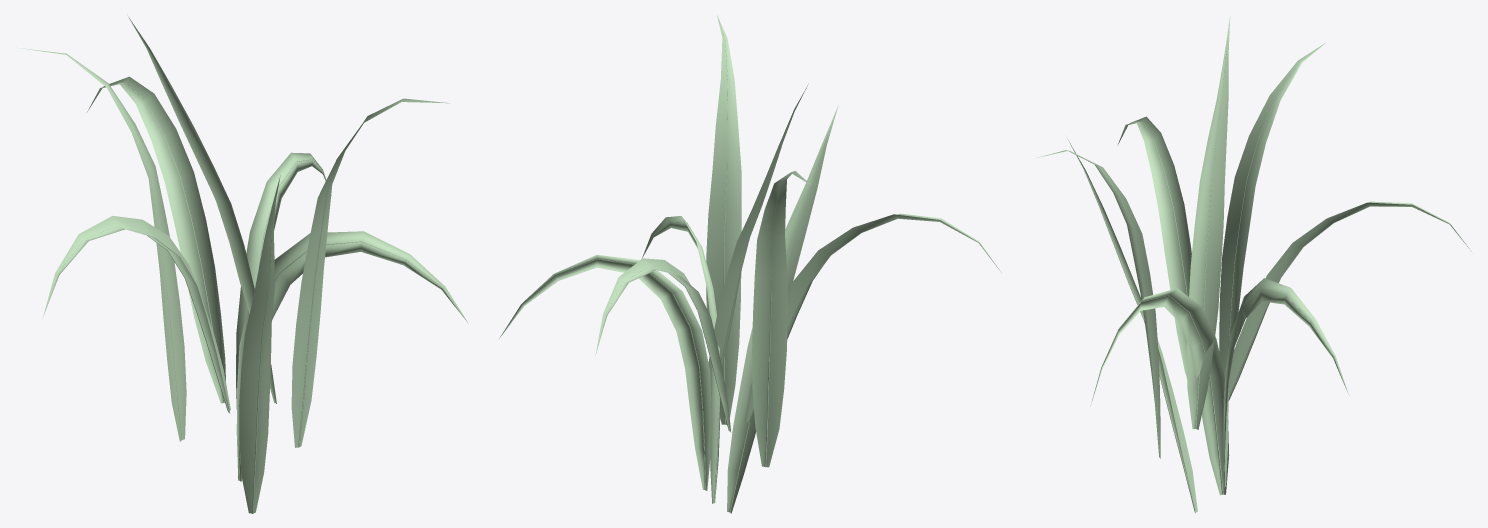
Rendered from grass-01.LOD0.fbx.
3 views of the same model, side by side, from view 1: azimuth 30°, elevation 25°; view 2: azimuth 150°, elevation 25°; view 3: azimuth 270°, elevation 25° (orthographic). The views are drawn at different scales.
Parts seen in each view (by area): view 1: Grass.014; view 2: Grass.014; view 3: Grass.014.
Part boxes in pixels (<box>): Grass.014: <box>19,16,468,513</box>; Grass.014: <box>499,15,1001,513</box>; Grass.014: <box>1037,15,1471,512</box>.
Bounding box in the file's own units: 5.26 × 5.13 × 5.95.
